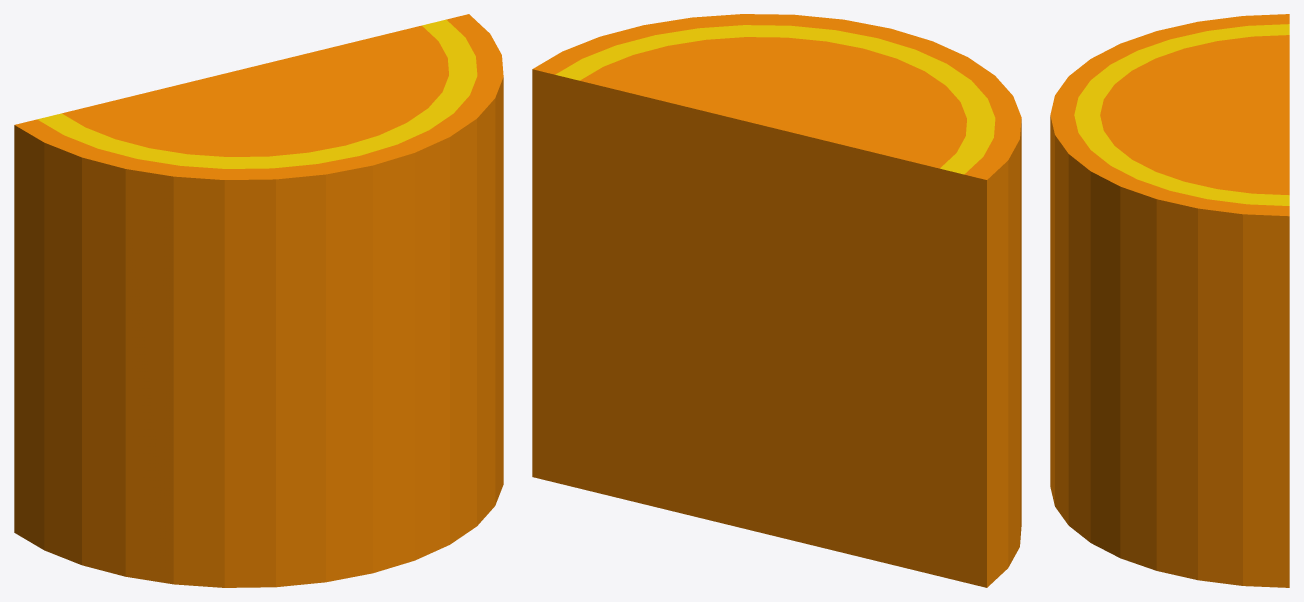
The model's file is Floor5.fbx.
3 views of the same model, side by side, from view 1: azimuth 30°, elevation 25°; view 2: azimuth 150°, elevation 25°; view 3: azimuth 270°, elevation 25° (orthographic). The views are drawn at different scales.
Visible parts, largest first — view 1: Circle; view 2: Circle; view 3: Circle.
Part boxes in pixels (<box>): Circle: <box>14,14,503,587</box>; Circle: <box>532,14,1021,587</box>; Circle: <box>1050,14,1289,587</box>.
Size of the model in its own units: 1400 by 1200 by 700.
